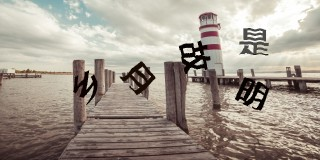乡: (73, 70, 98, 105)
故: (179, 40, 211, 73)
明: (235, 77, 269, 111)
是: (240, 27, 269, 56)
月: (120, 61, 156, 95)
